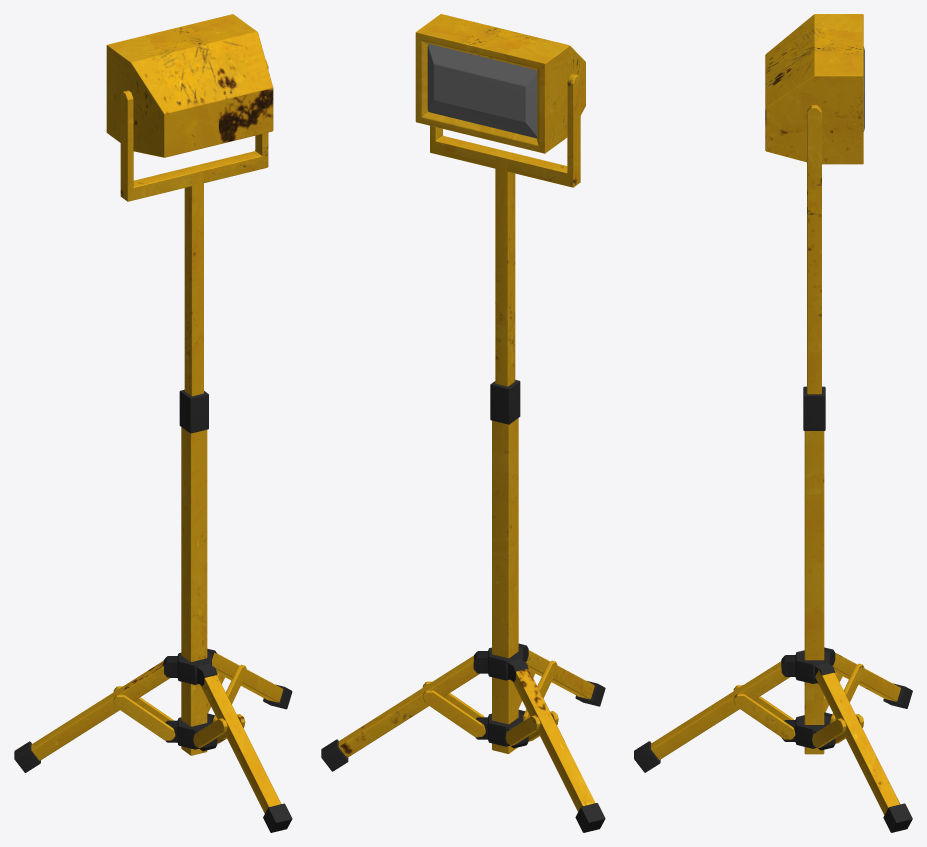
The model's file is Construction_Floor_ShortTripod_1Head.fbx.
The picture shows the model from 3 angles, left to right: view 1: azimuth 30°, elevation 25°; view 2: azimuth 150°, elevation 25°; view 3: azimuth 270°, elevation 25°; orthographic projection. The views are drawn at different scales.
Parts seen in each view (by area): view 1: Construction_Floor_ShortTripod_1Head_LOD0; view 2: Construction_Floor_ShortTripod_1Head_LOD0; view 3: Construction_Floor_ShortTripod_1Head_LOD0.
Boxes of the visible parts, x1,y1,x2,y2 form: Construction_Floor_ShortTripod_1Head_LOD0: (14,14,292,832); Construction_Floor_ShortTripod_1Head_LOD0: (321,14,605,832); Construction_Floor_ShortTripod_1Head_LOD0: (634,14,912,832).
Size of what is drawn, in the model's own units: 65.57 by 163 by 56.85.
4 materials, 1 textured.
